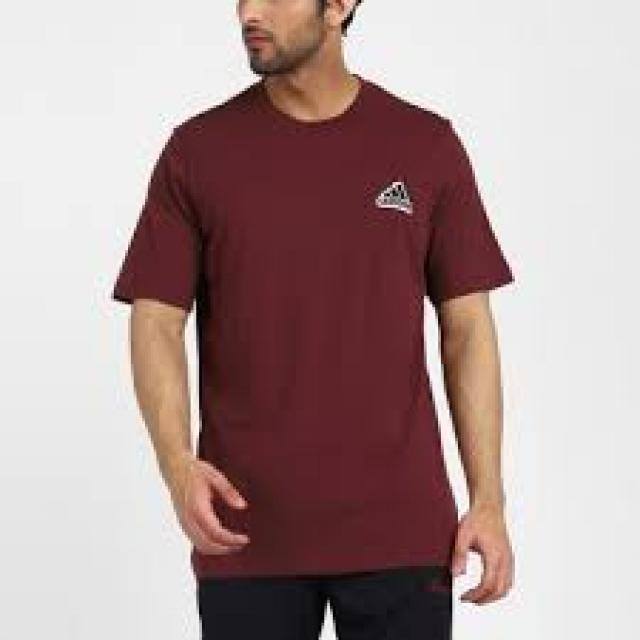Adidas: (372, 174, 414, 218)
